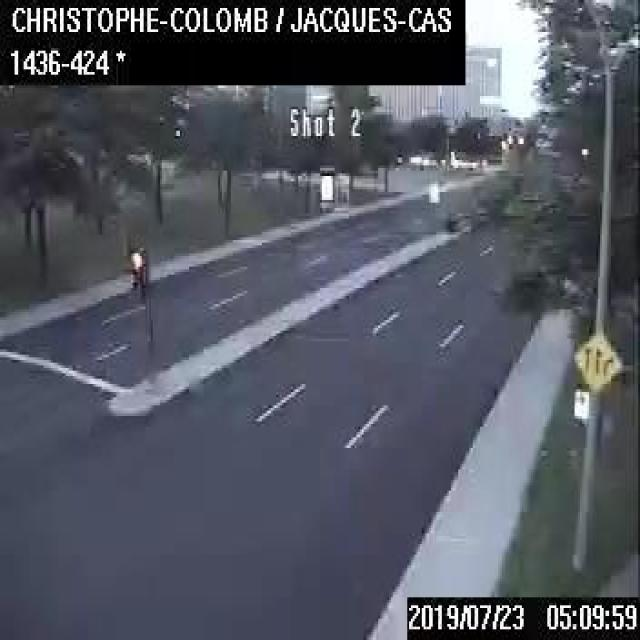vehicle: (452, 154, 474, 168)
